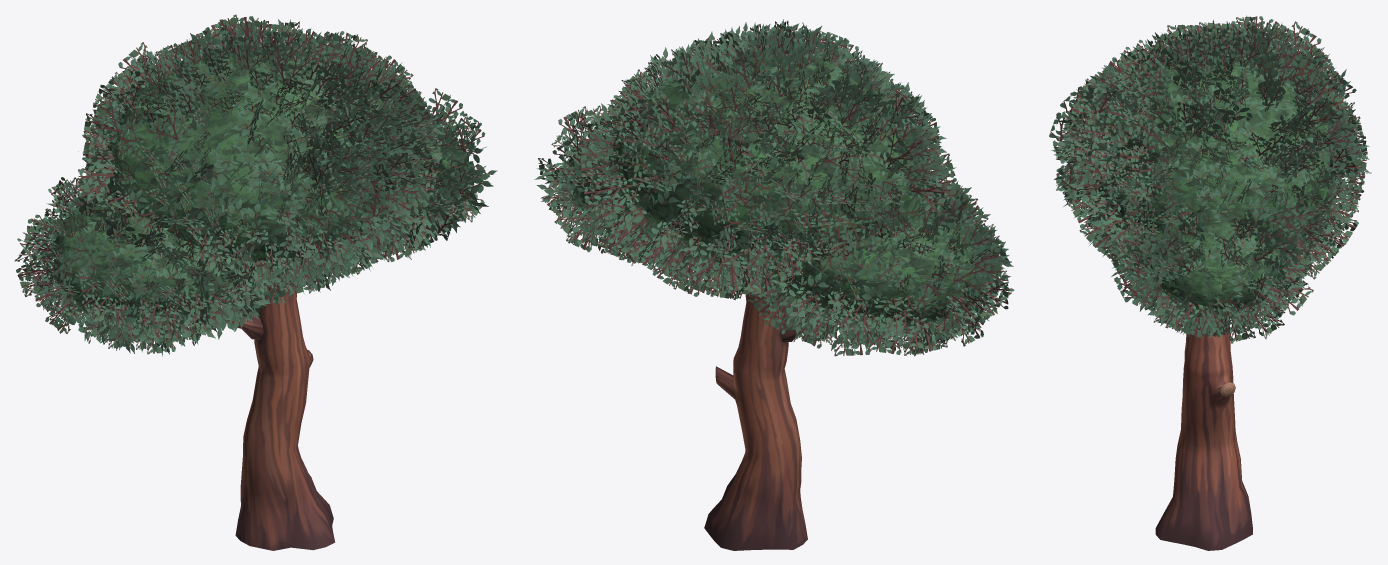
Rendered from Tree_001.fbx.
3 renders of one model, left to right at view 1: azimuth 30°, elevation 25°; view 2: azimuth 150°, elevation 25°; view 3: azimuth 270°, elevation 25°, orthographic. The views are drawn at different scales.
Visible parts, largest first — view 1: leaves_01, Tree_01_leaf, Tree_01; view 2: leaves_01, Tree_01_leaf, Tree_01; view 3: leaves_01, Tree_01_leaf, Tree_01.
Part boxes in pixels (x1,y1,x2,y2): leaves_01: (14, 14, 497, 356); Tree_01_leaf: (53, 47, 466, 323); Tree_01: (215, 273, 335, 550); leaves_01: (534, 19, 1014, 356); Tree_01_leaf: (569, 48, 983, 327); Tree_01: (704, 272, 807, 550); leaves_01: (1049, 15, 1371, 343); Tree_01_leaf: (1080, 46, 1336, 313); Tree_01: (1155, 313, 1252, 550).
Size of the model in its own units: 611 by 647 by 392.
